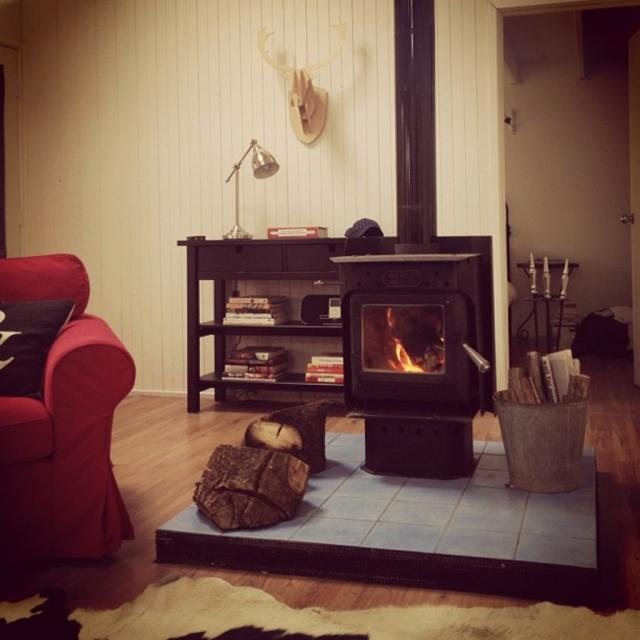Fire: (362, 312, 448, 372)
